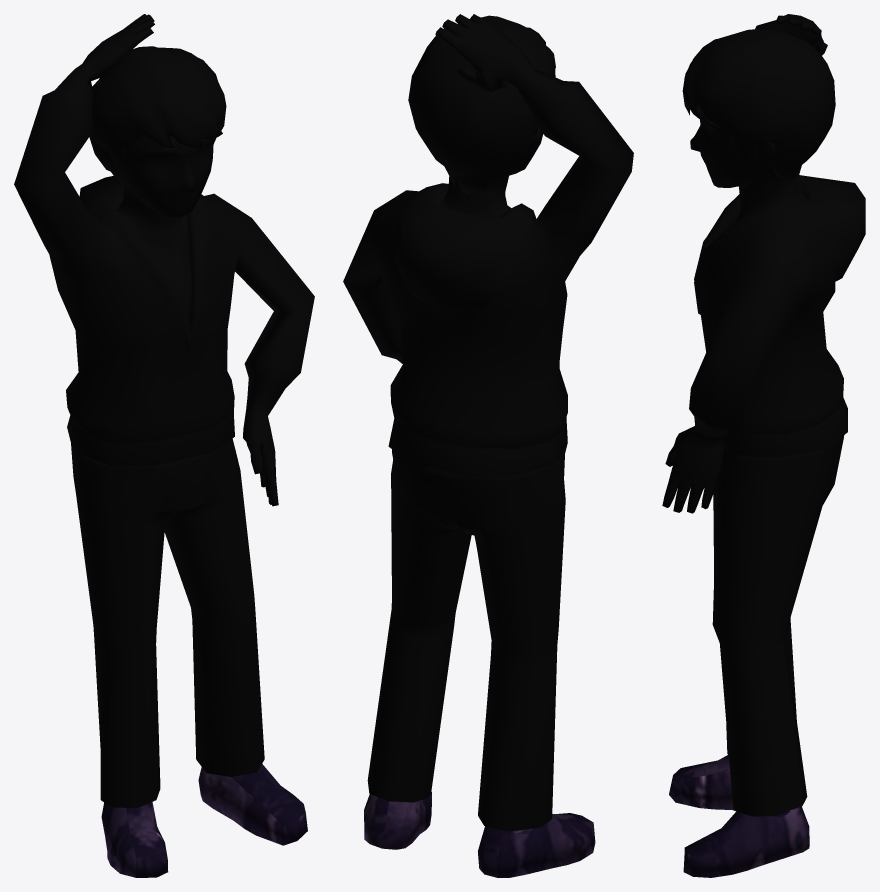
The model's file is Statue_greek_02_Art.glb.
The picture shows the model from 3 angles, left to right: view 1: azimuth 30°, elevation 25°; view 2: azimuth 150°, elevation 25°; view 3: azimuth 270°, elevation 25°; orthographic projection. The views are drawn at different scales.
Parts seen in each view (by area): view 1: Statue_greek_02_Art; view 2: Statue_greek_02_Art; view 3: Statue_greek_02_Art.
Part boxes in pixels (x1,y1,x2,y2): Statue_greek_02_Art: (14,14,314,877); Statue_greek_02_Art: (343,14,633,877); Statue_greek_02_Art: (662,14,865,877).
Size of what is drawn, in the model's own units: 0.7261 by 2 by 0.4548.
Materials: 1 (1 with a texture image).
